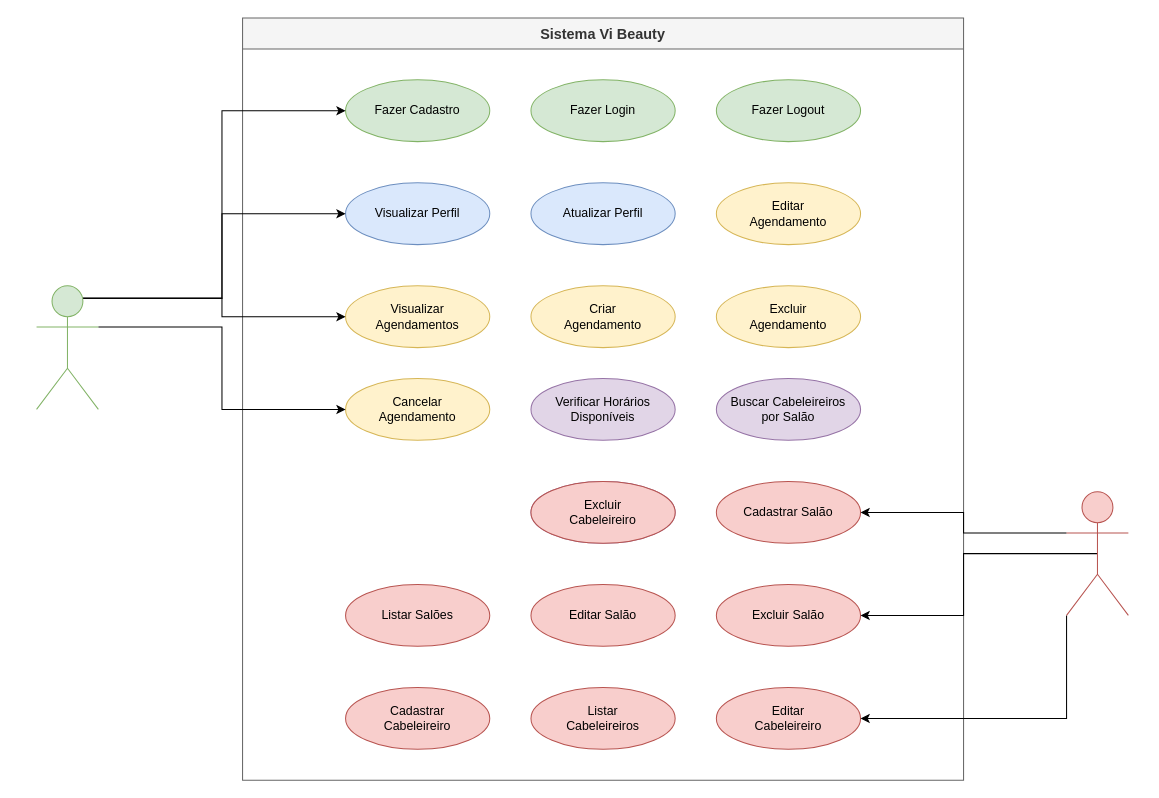
Image size: 1159x798. Some labels were removed from this diagram. Here are the shapes that lost their labels. From the top down, the centre of each, then its label:
pixel 67 347: Cliente/Usuário
pixel 1097 553: Administrador
